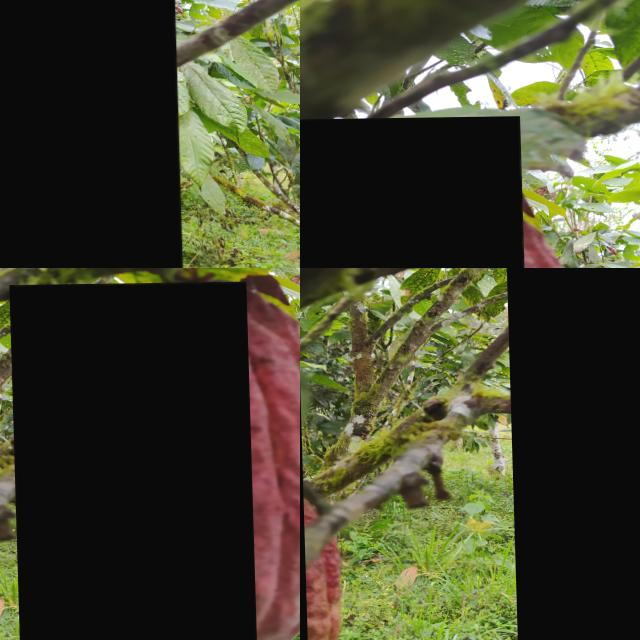Sana: (7, 282, 254, 640), (505, 268, 640, 640), (0, 0, 180, 268), (300, 117, 526, 268), (216, 268, 300, 554), (0, 552, 102, 640), (300, 474, 341, 640)
